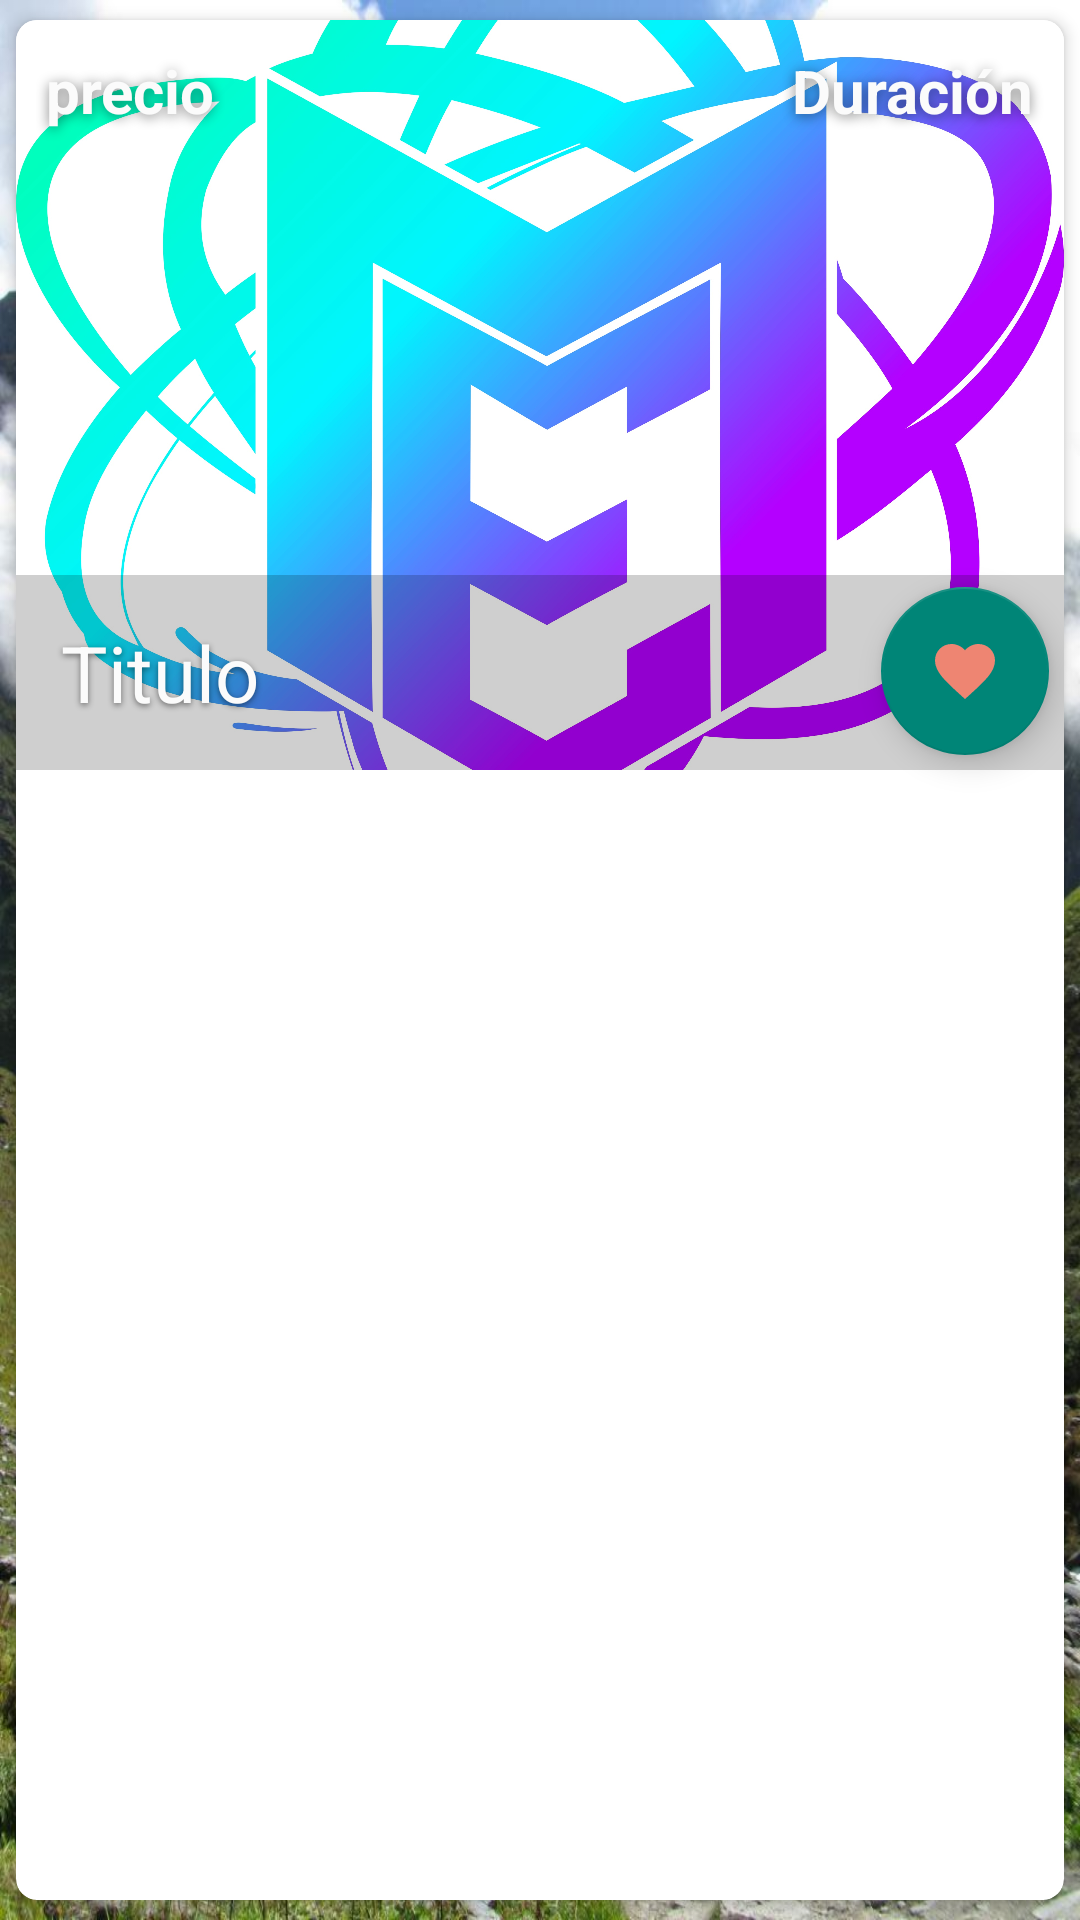

Point at icon controls on the screen. Image size 1080×1920, points as [x,y].
favoritos: [965,671]
